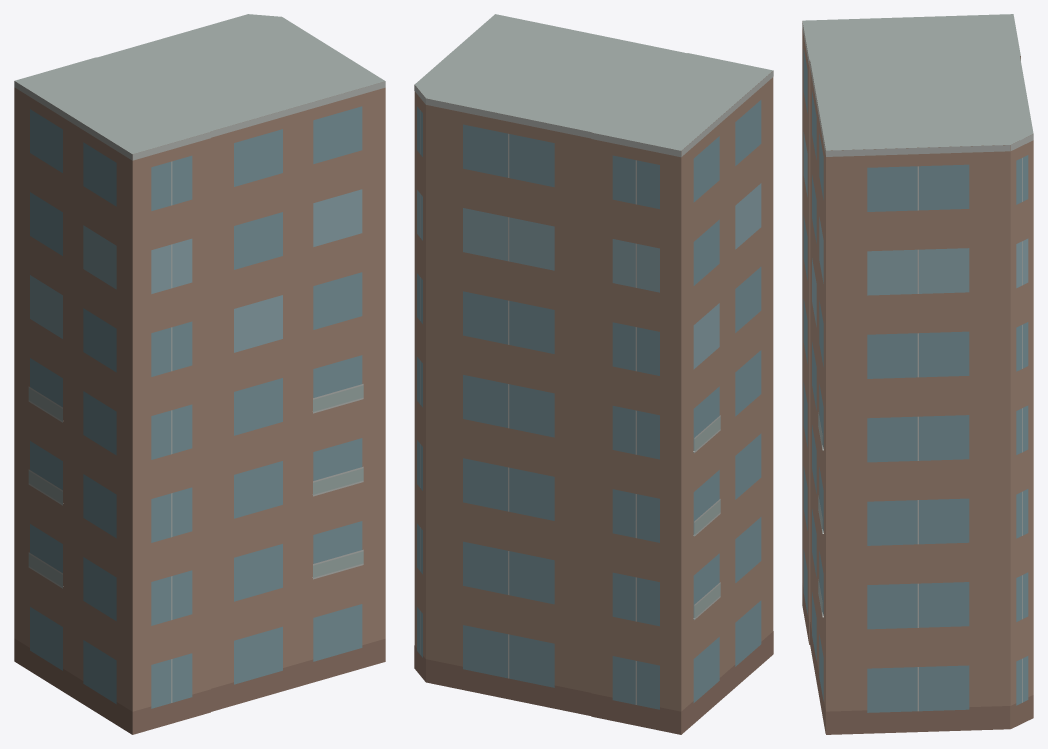
Rendered from survey-upis-32924807.glb.
3 renders of one model, left to right at view 1: azimuth 30°, elevation 25°; view 2: azimuth 150°, elevation 25°; view 3: azimuth 270°, elevation 25°, orthographic.
Visible parts, largest first — view 1: survey-upis-32924807.tmp; view 2: survey-upis-32924807.tmp; view 3: survey-upis-32924807.tmp.
Part boxes in pixels (x1,y1,x2,y2): survey-upis-32924807.tmp: [14, 14, 385, 734]; survey-upis-32924807.tmp: [414, 14, 773, 734]; survey-upis-32924807.tmp: [802, 14, 1033, 734].
Size of the model in its own units: 11.14 by 22.2 by 7.97.
